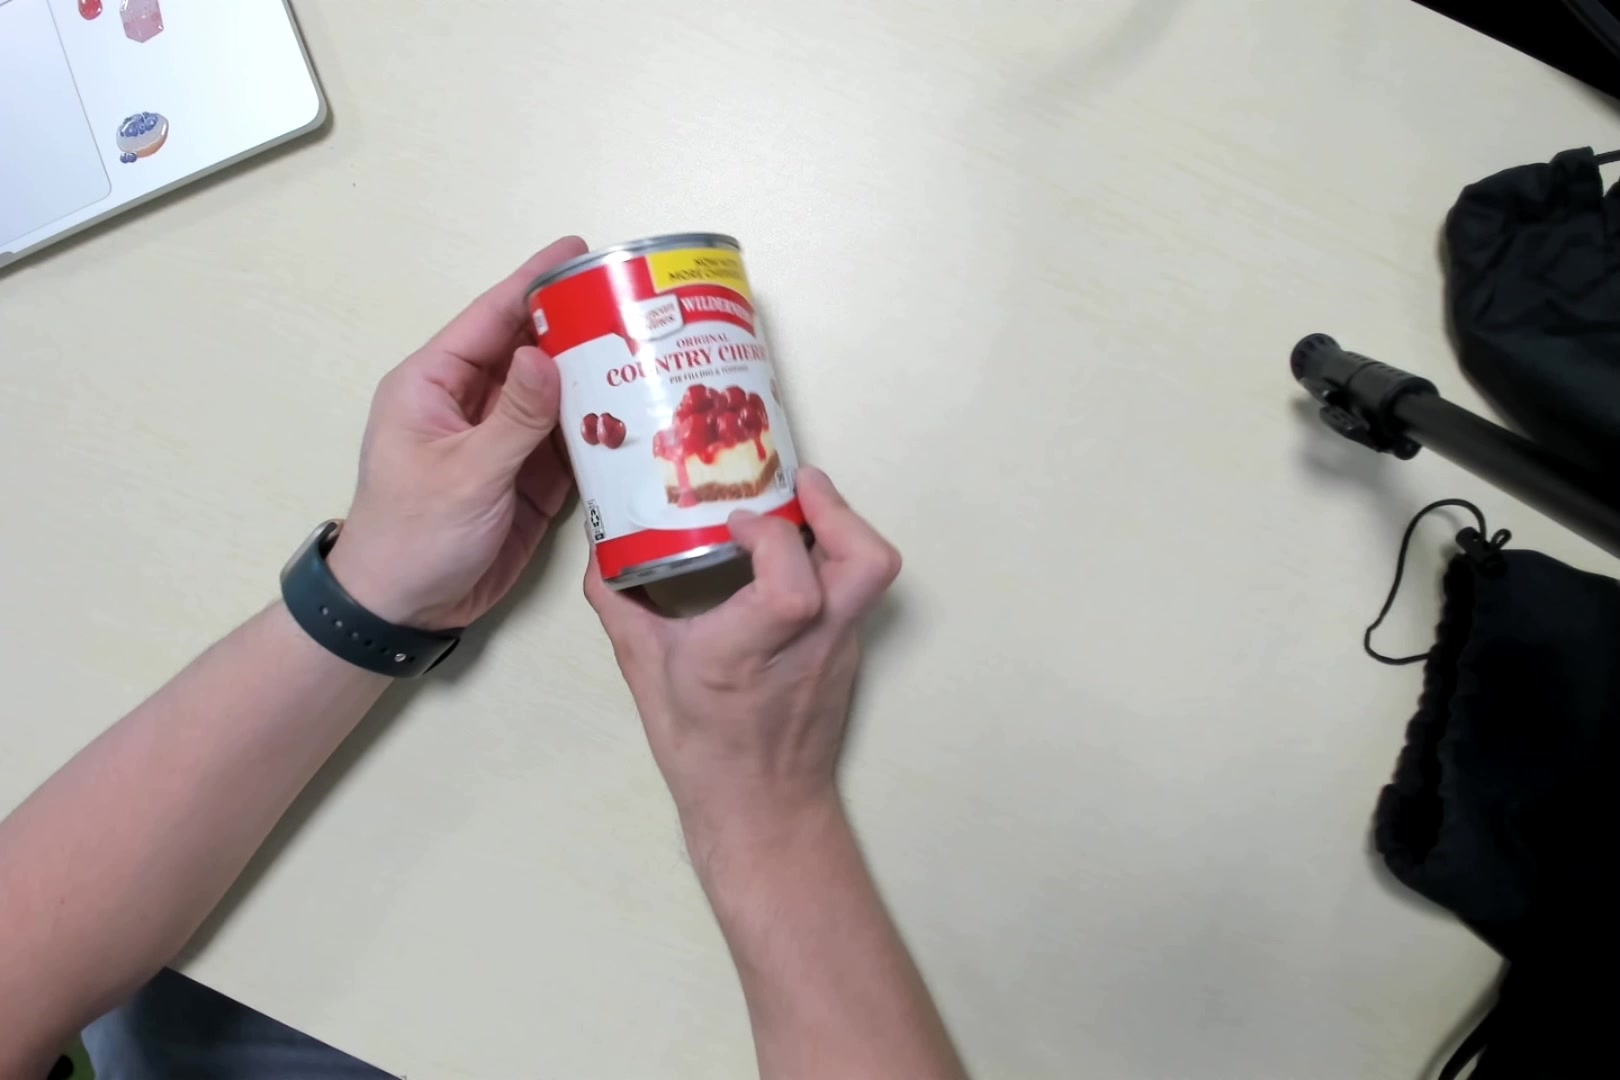OtherBakingNeeds_500-599g_NonHalal_NonHealthy: (529, 242, 808, 579)
